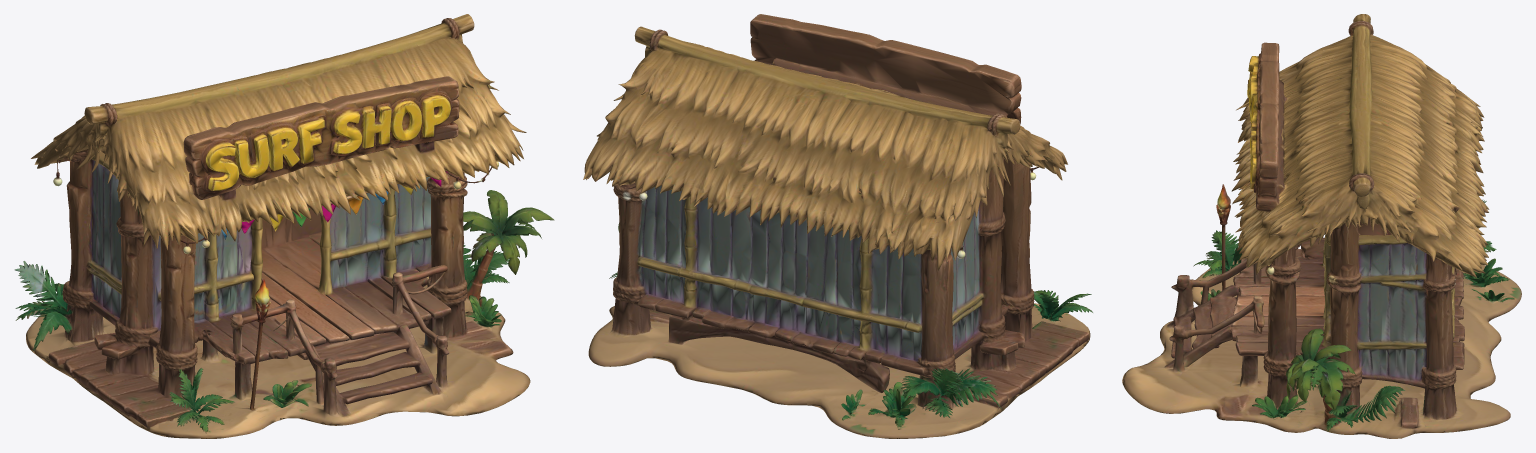
The model's file is surfshop.glb.
3 renders of one model, left to right at view 1: azimuth 30°, elevation 25°; view 2: azimuth 150°, elevation 25°; view 3: azimuth 270°, elevation 25°, orthographic. The views are drawn at different scales.
Size of the model in its own units: 1.92 by 1.11 by 1.59.
1 material, 1 textured.
